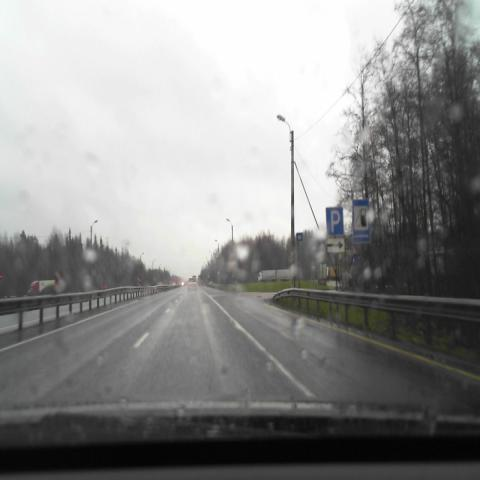8_3_1: (326, 238, 344, 252)
